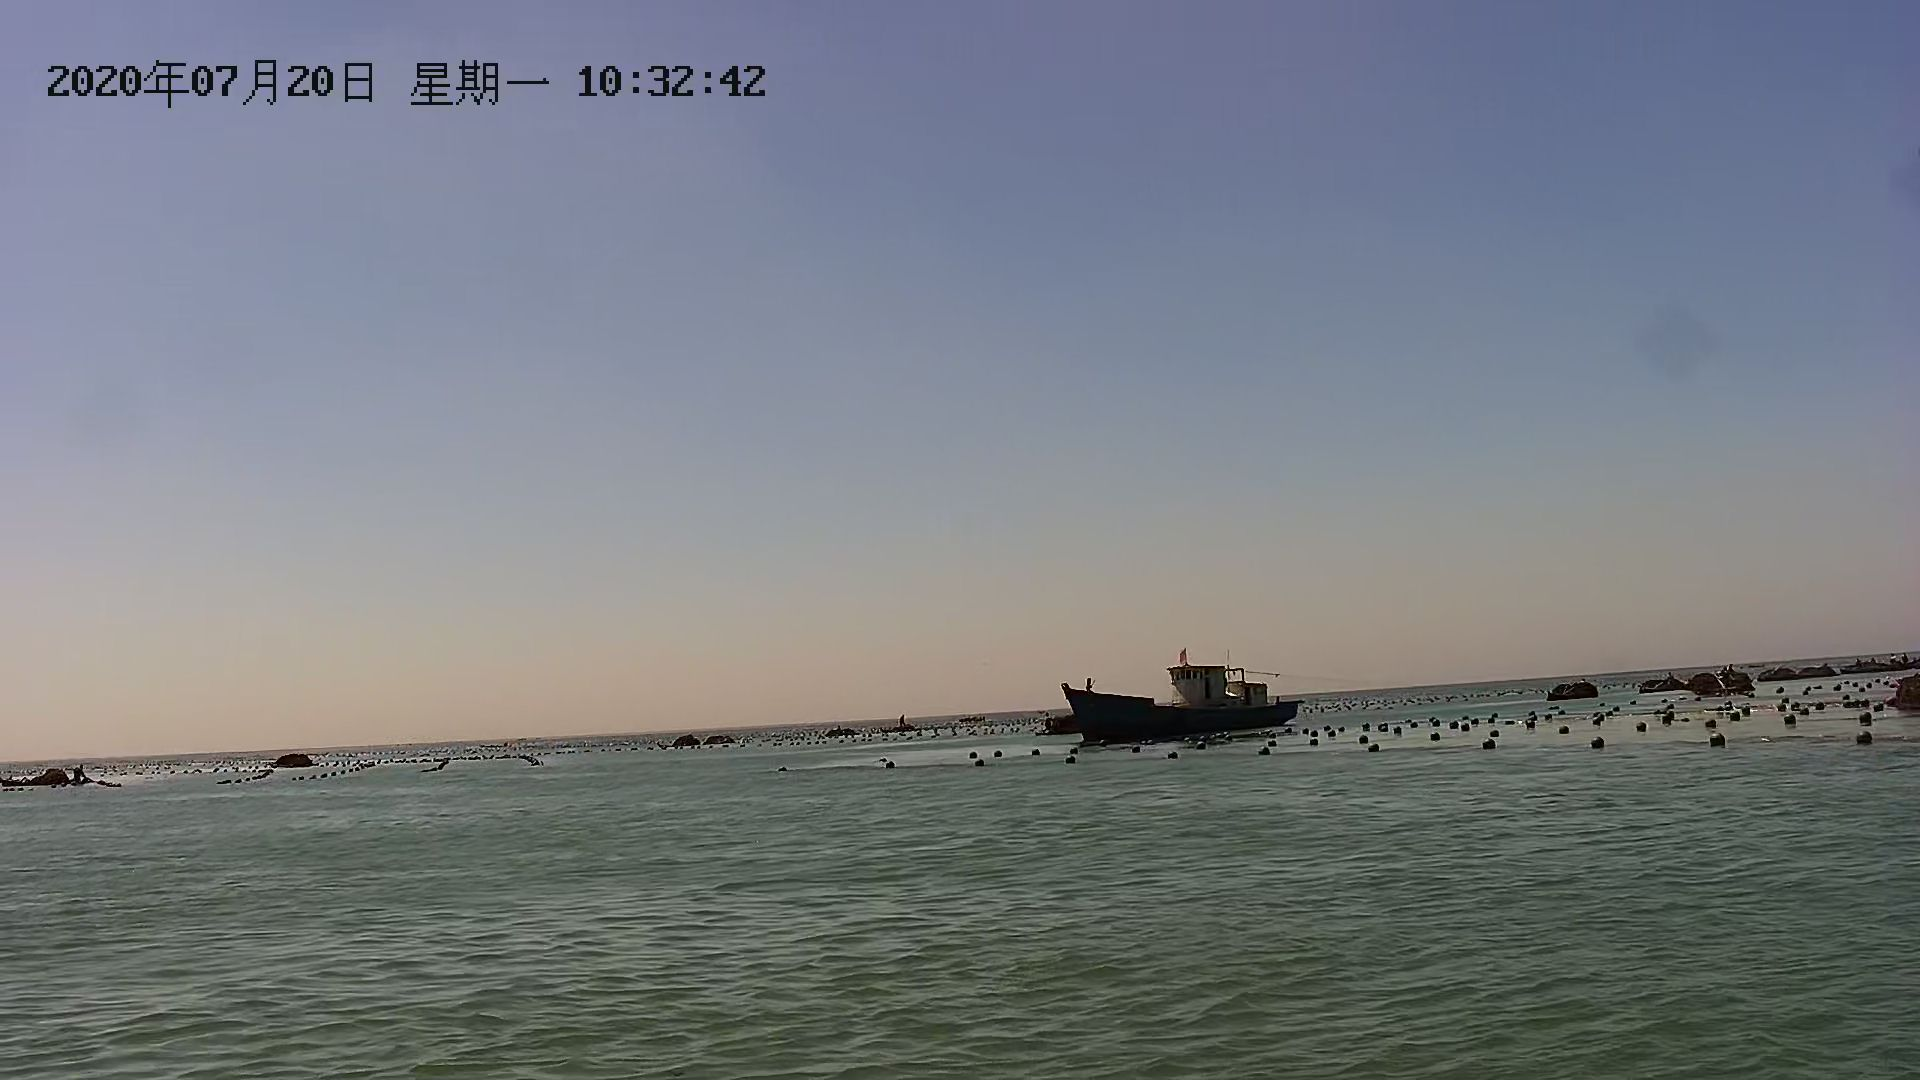ball: (1853, 731, 1878, 752), (1585, 731, 1606, 756), (1706, 731, 1730, 752)
rubbish: (1, 757, 105, 796), (1633, 669, 1768, 698), (657, 727, 742, 753), (1762, 655, 1840, 684), (1842, 654, 1920, 682), (1542, 673, 1600, 702), (272, 750, 319, 769)
ship: (1052, 658, 1302, 736)
